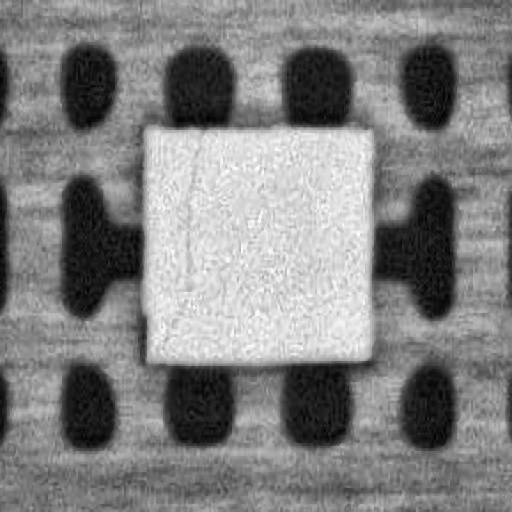DIE_CRACK: (159, 128, 204, 350)
